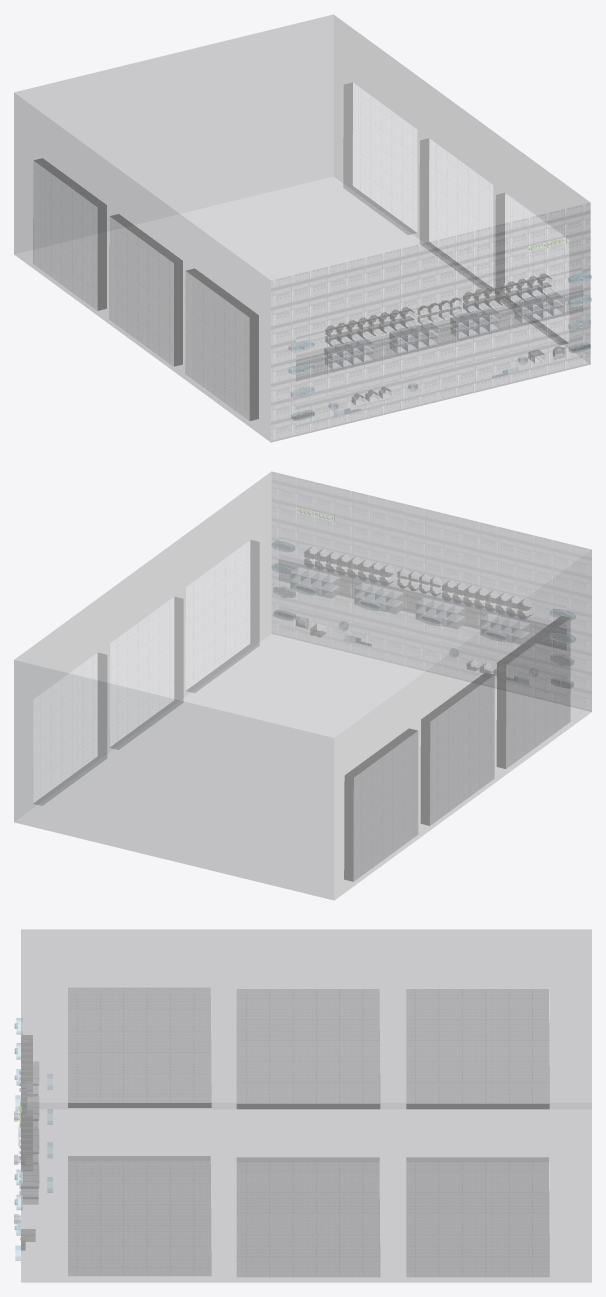
The model's file is juniper-9204.glb.
3 renders of one model, top to bottom at view 1: azimuth 30°, elevation 25°; view 2: azimuth 150°, elevation 25°; view 3: azimuth 270°, elevation 25°, orthographic. The views are drawn at different scales.
Parts seen in each view (by area): view 1: SketchUpModel_43, SketchUpModel_default, SketchUpModel_12, SketchUpModel_22, SketchUpModel_38, SketchUpModel_21, SketchUpModel_13, SketchUpModel_18, SketchUpModel_17, SketchUpModel_19, SketchUpModel_20; view 2: SketchUpModel_43, SketchUpModel_default, SketchUpModel_12, SketchUpModel_22, SketchUpModel_38, SketchUpModel_18, SketchUpModel_19, SketchUpModel_13, SketchUpModel_21, SketchUpModel_14, SketchUpModel_17; view 3: SketchUpModel_43, SketchUpModel_38, SketchUpModel_default, SketchUpModel_21, SketchUpModel_13, SketchUpModel_17, SketchUpModel_19.
Part boxes in pixels (box(x1,y1,x2,y2)): SketchUpModel_43: box(14, 15, 589, 441); SketchUpModel_default: box(15, 177, 589, 441); SketchUpModel_12: box(14, 15, 332, 253); SketchUpModel_22: box(271, 203, 590, 441); SketchUpModel_38: box(33, 83, 567, 420); SketchUpModel_21: box(326, 244, 551, 346); SketchUpModel_13: box(300, 277, 583, 410); SketchUpModel_18: box(326, 276, 553, 347); SketchUpModel_17: box(291, 273, 591, 420); SketchUpModel_19: box(324, 297, 563, 366); SketchUpModel_20: box(332, 298, 564, 370); SketchUpModel_43: box(14, 471, 591, 899); SketchUpModel_default: box(16, 515, 590, 899); SketchUpModel_12: box(14, 660, 333, 899); SketchUpModel_22: box(272, 472, 591, 711); SketchUpModel_38: box(34, 540, 570, 881); SketchUpModel_18: box(305, 546, 532, 619); SketchUpModel_19: box(290, 572, 529, 644); SketchUpModel_13: box(291, 567, 537, 676); SketchUpModel_21: box(307, 513, 531, 619); SketchUpModel_14: box(274, 586, 571, 687); SketchUpModel_17: box(271, 541, 573, 687); SketchUpModel_43: box(21, 929, 591, 1282); SketchUpModel_38: box(68, 988, 549, 1276); SketchUpModel_default: box(15, 1024, 591, 1281); SketchUpModel_21: box(21, 1035, 32, 1171); SketchUpModel_13: box(14, 1023, 38, 1229); SketchUpModel_17: box(15, 1069, 52, 1260); SketchUpModel_19: box(21, 1067, 38, 1203).
Bounding box in the file's own units: 0.4455 × 0.2159 × 0.6278.
Materials: 23 (7 with a texture image).
